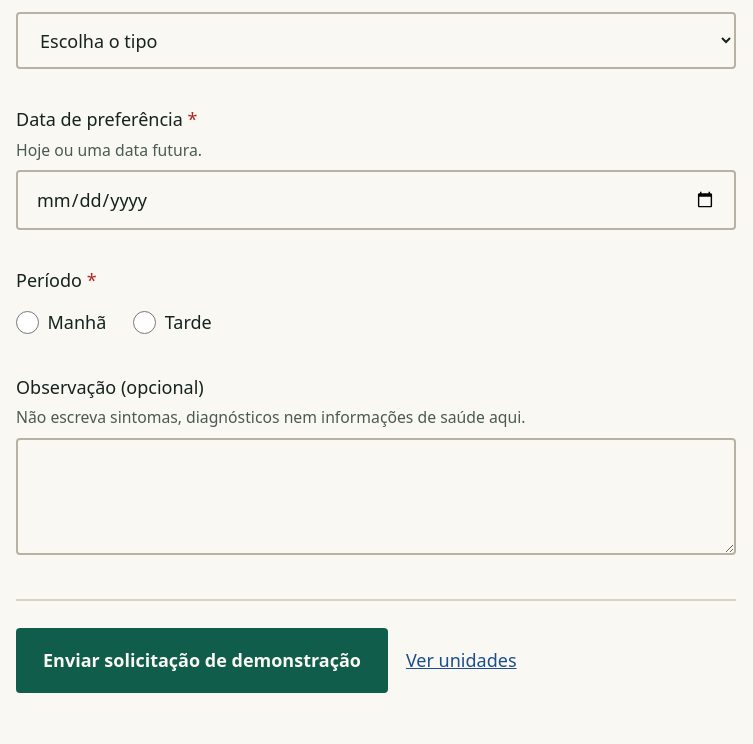
Test case: Agendamento — validação acessível (RF11) › mostra erro em cada campo obrigatório vazio
(page scrolled)
Click the button "Enviar solicitação de demonstração" at (202, 660), box x1=16 y1=628 x2=388 y2=693
(page scrolled)
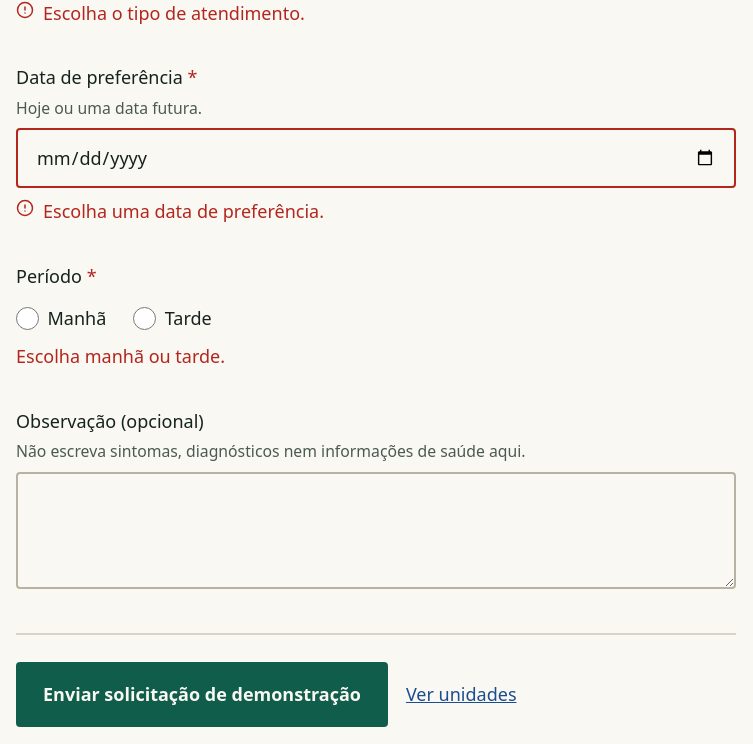
Check: the text "Escolha manhã ou tarde." is shown, box x1=16 y1=344 x2=225 y2=368
